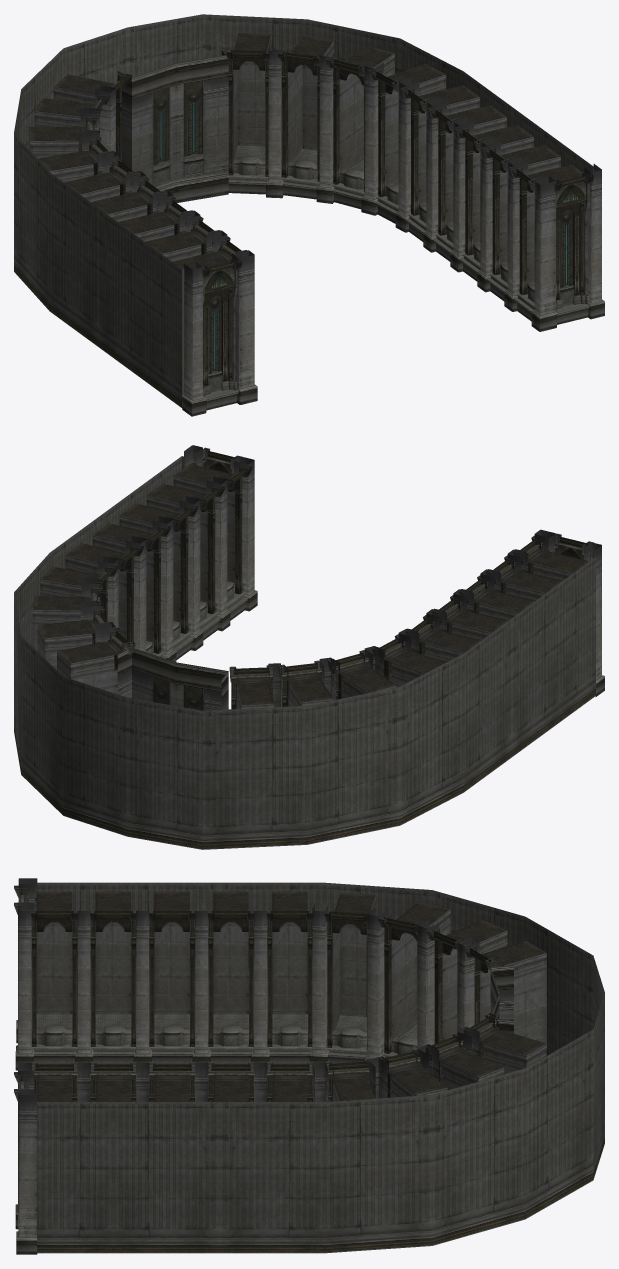
The model's file is Boss Base.fbx.
The picture shows the model from 3 angles, top to bottom: view 1: azimuth 30°, elevation 25°; view 2: azimuth 150°, elevation 25°; view 3: azimuth 270°, elevation 25°; orthographic projection. The views are drawn at different scales.
Visible parts, largest first — view 1: Boss_Base; view 2: Boss_Base; view 3: Boss_Base.
Boxes of the visible parts, x1,y1,x2,y2 form: Boss_Base: [14, 14, 604, 416]; Boss_Base: [14, 445, 604, 849]; Boss_Base: [14, 878, 604, 1254].
Size of the model in its own units: 4083 by 1375 by 4648.
Materials: 1 (1 with a texture image).
